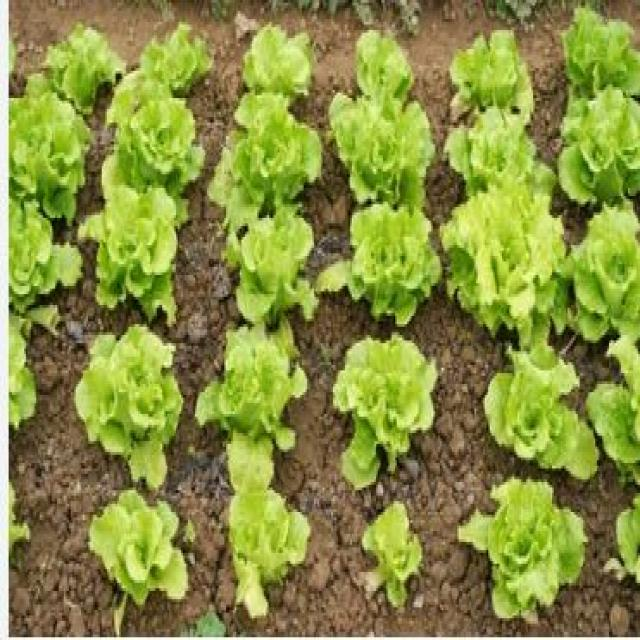lettuce: (442, 186, 574, 341), (484, 332, 605, 499), (458, 479, 590, 628), (330, 25, 437, 206), (74, 325, 185, 492), (334, 332, 448, 492), (219, 436, 316, 622), (315, 200, 447, 330), (76, 172, 182, 325), (192, 314, 312, 440), (98, 70, 203, 206), (216, 86, 324, 218), (86, 488, 192, 610), (8, 83, 96, 221), (232, 199, 323, 324), (565, 199, 640, 340), (446, 102, 551, 202), (564, 84, 640, 204), (360, 498, 427, 620), (562, 0, 640, 92), (246, 23, 310, 96)
